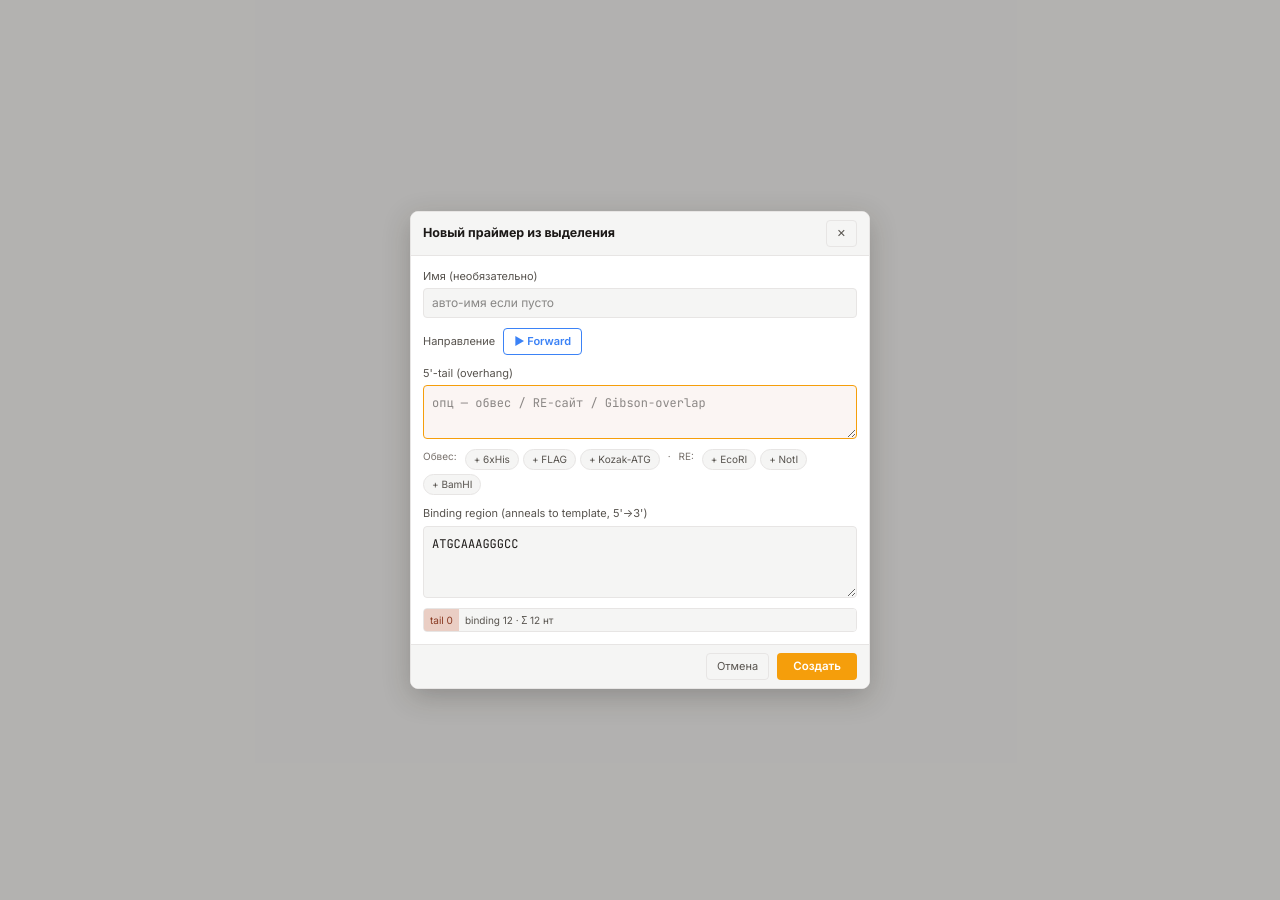
PrimerFromSelectionModal › RC toggle flips direction and reverse-complements the field
Click the button with test id "primer-modal-rc" at [543, 341], box x1=503 y1=328 x2=582 y2=355
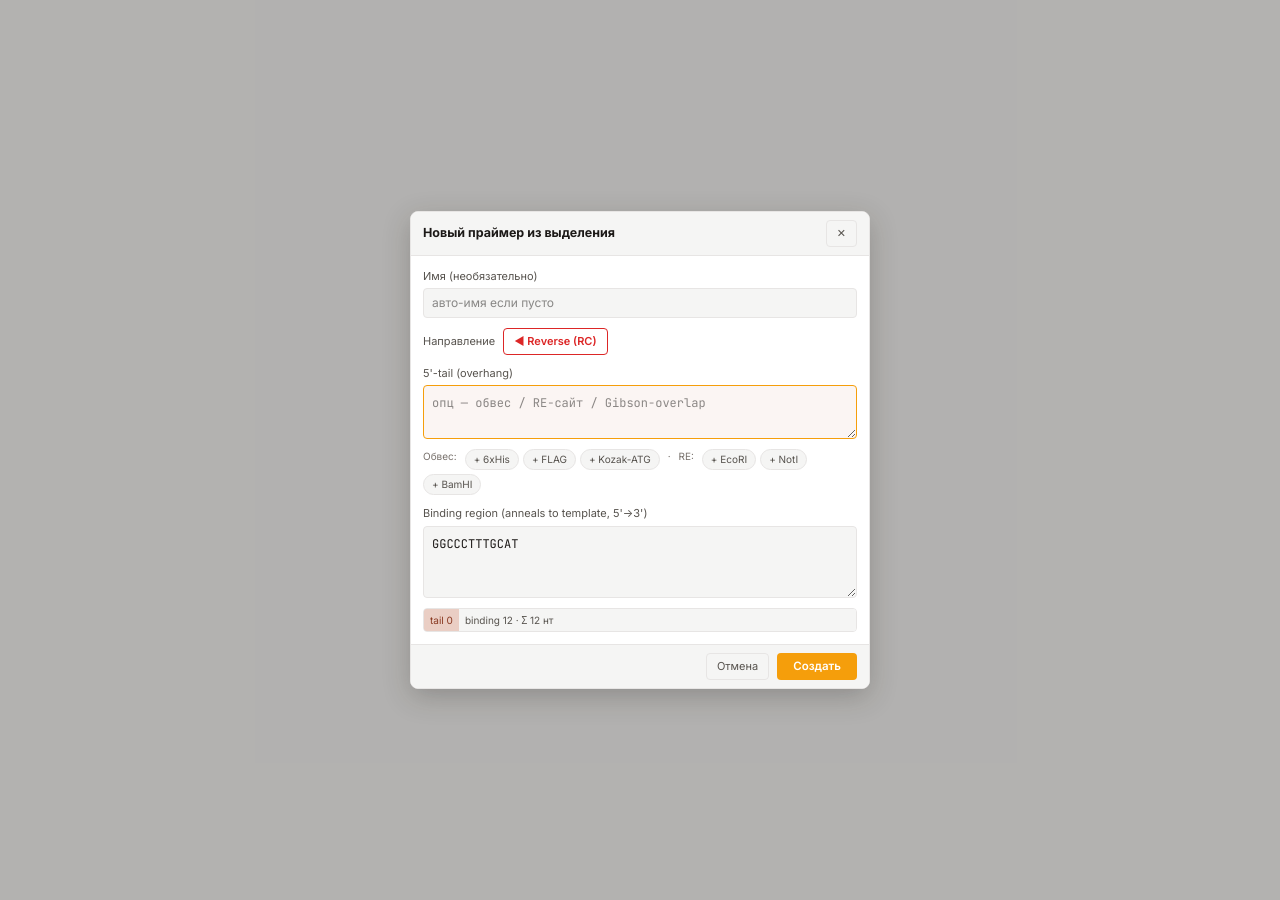
Check: the button with test id "primer-modal-rc" shows "Reverse", box x1=503 y1=328 x2=608 y2=355
Check: the text box with test id "primer-modal-seq" holds "GGCCCTTTGCAT", box x1=423 y1=526 x2=857 y2=598
